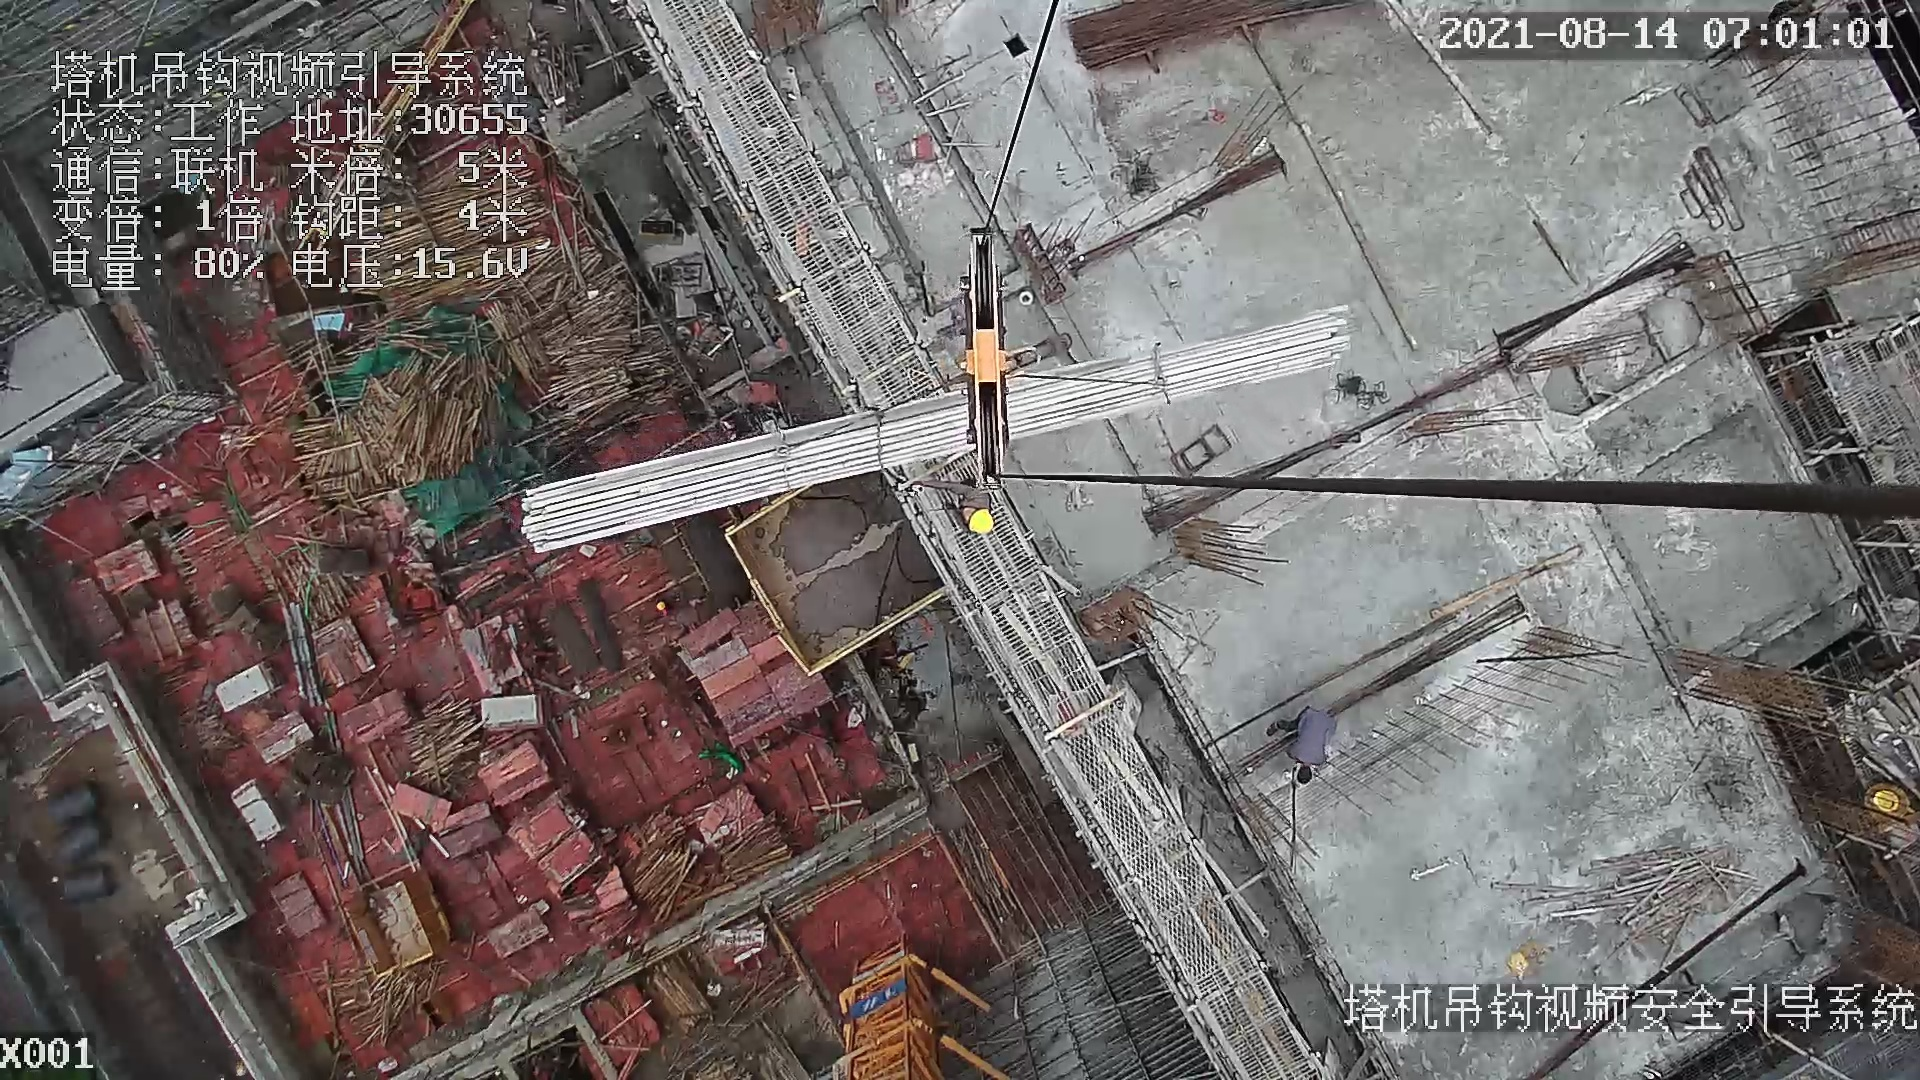helmet: (965, 504, 997, 539)
hook: (946, 222, 1024, 492)
person: (1267, 703, 1344, 783), (952, 500, 1017, 549)
